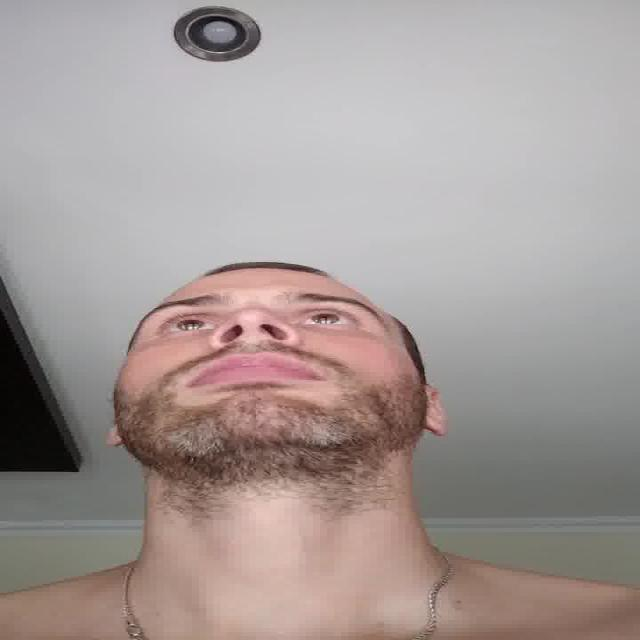earlobe: (106, 429, 128, 449), (425, 420, 449, 436)
eye: (158, 316, 214, 334), (299, 310, 356, 327)
nose: (214, 333, 297, 358)
wholeear: (418, 385, 448, 434)
